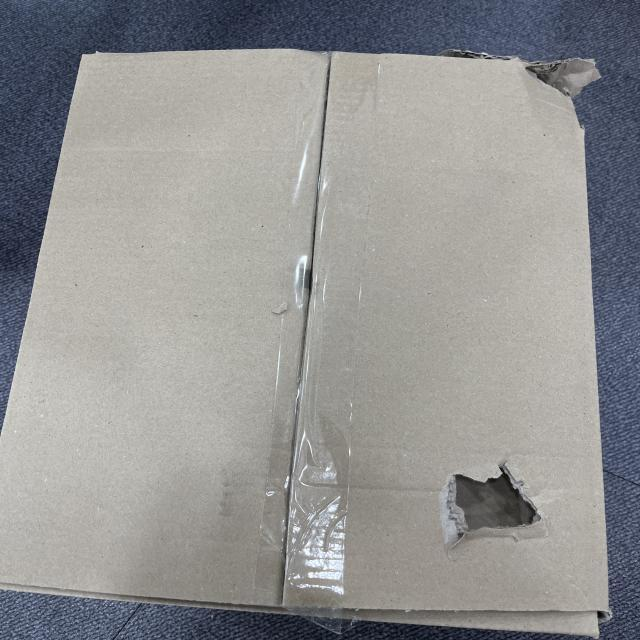hole: (435, 459, 557, 549), (519, 62, 585, 102)
